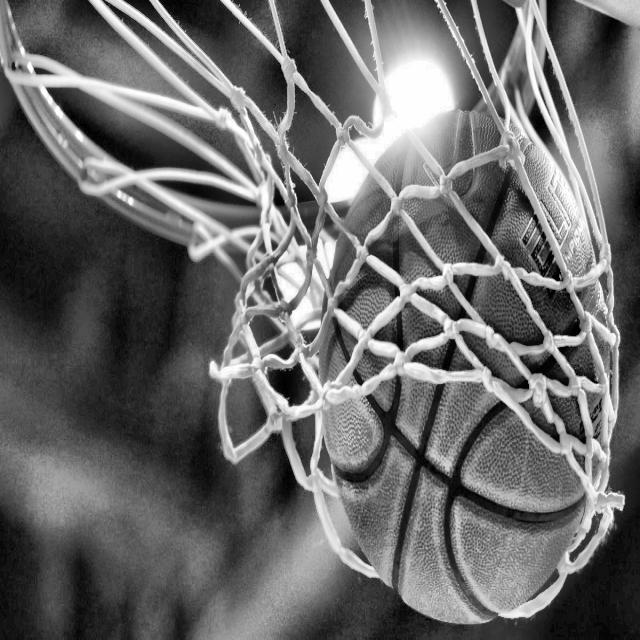Basketball: (320, 110, 623, 625)
